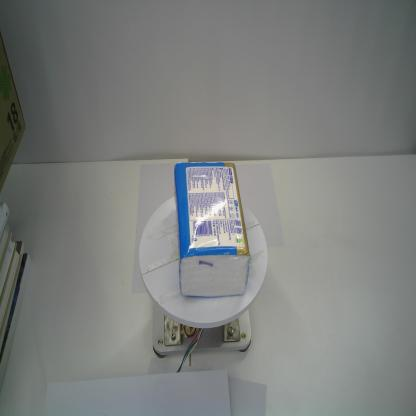Tissue: (172, 160, 252, 298)
